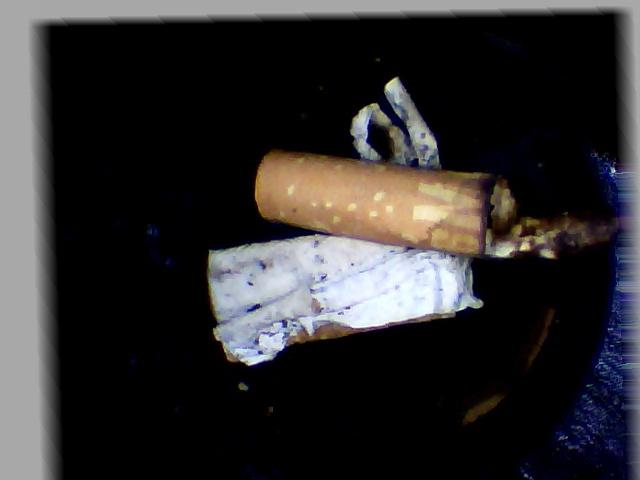megot: (250, 122, 619, 269), (180, 225, 489, 382)
